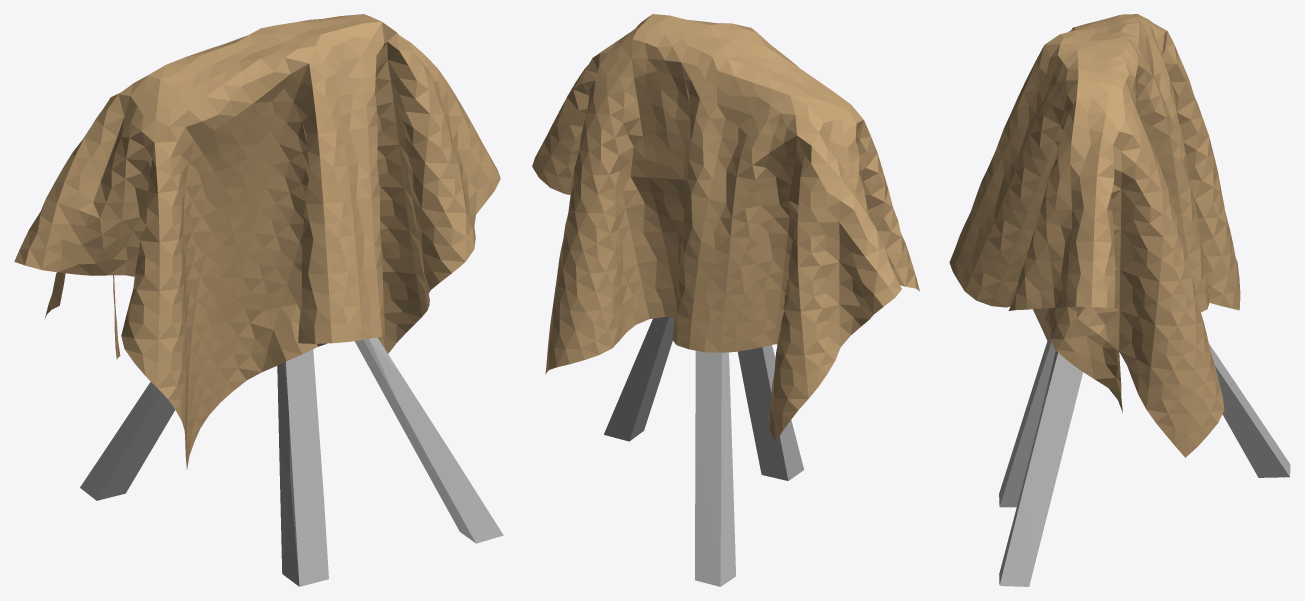
File: level_1.glb
3 views of the same model, side by side, from view 1: azimuth 30°, elevation 25°; view 2: azimuth 150°, elevation 25°; view 3: azimuth 270°, elevation 25° (orthographic). The views are drawn at different scales.
Parts seen in each view (by area): view 1: world, object.obj; view 2: world, object.obj; view 3: world, object.obj.
Boxes of the visible parts, x1,y1,x2,y2 form: world: [14, 14, 500, 469]; object.obj: [80, 337, 503, 586]; world: [532, 14, 919, 441]; object.obj: [604, 316, 804, 586]; world: [949, 14, 1240, 457]; object.obj: [999, 331, 1290, 586].
Size of the model in its own units: 0.3704 by 0.4076 by 0.2661.
